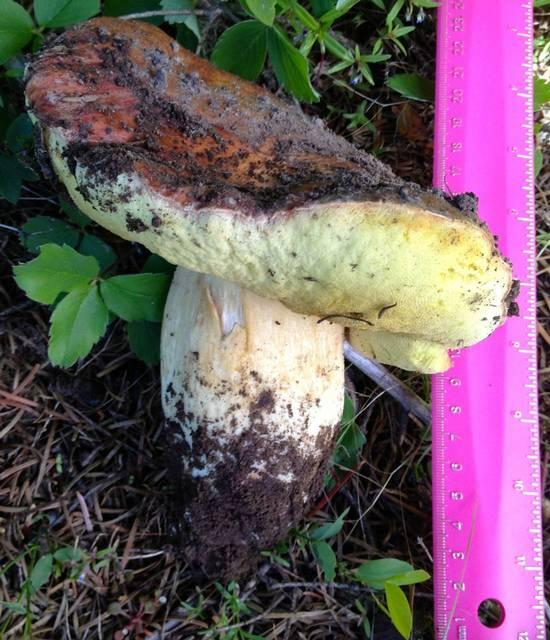Edible Mushroom: (20, 14, 517, 584)
